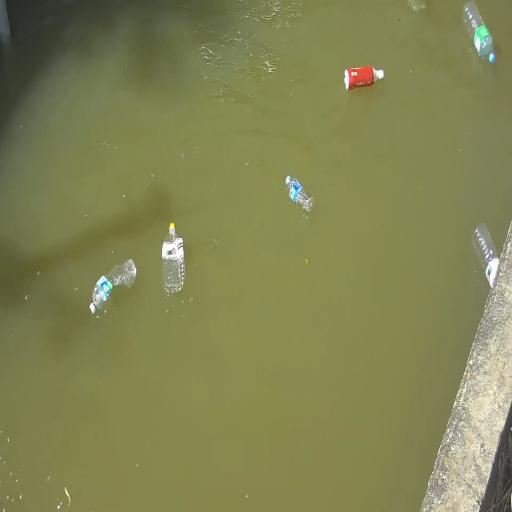plastic: (90, 259, 136, 313), (463, 0, 495, 63), (162, 223, 185, 296), (474, 224, 499, 287), (286, 175, 314, 212), (344, 67, 383, 90)
